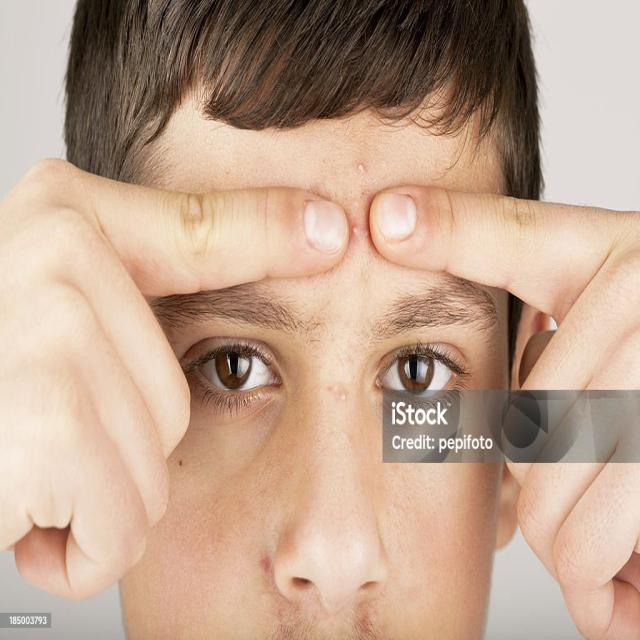papule: (353, 594, 379, 637), (252, 549, 277, 585)
pustule: (354, 157, 371, 181), (337, 385, 352, 406), (350, 220, 361, 240), (364, 225, 370, 242)
